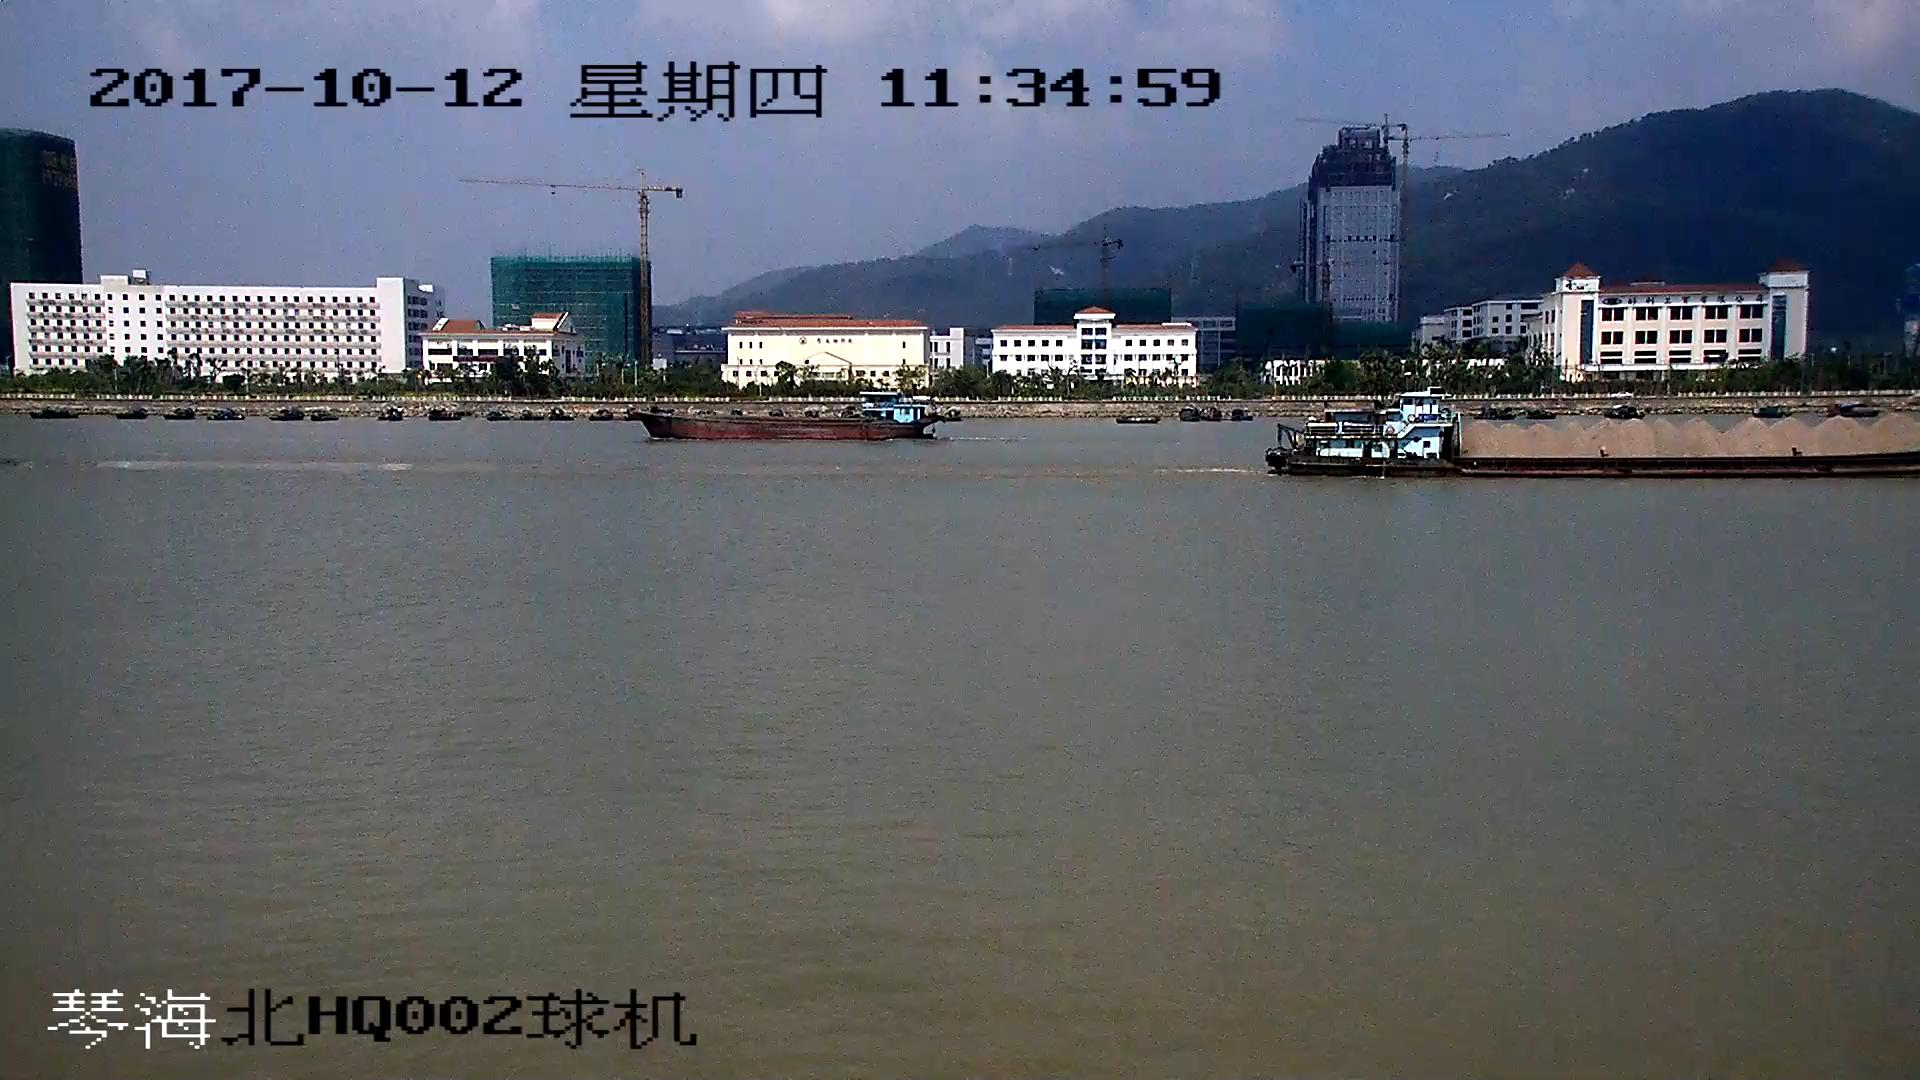bulk cargo carrier: (632, 390, 943, 440)
ore carrier: (1269, 396, 1920, 483)
